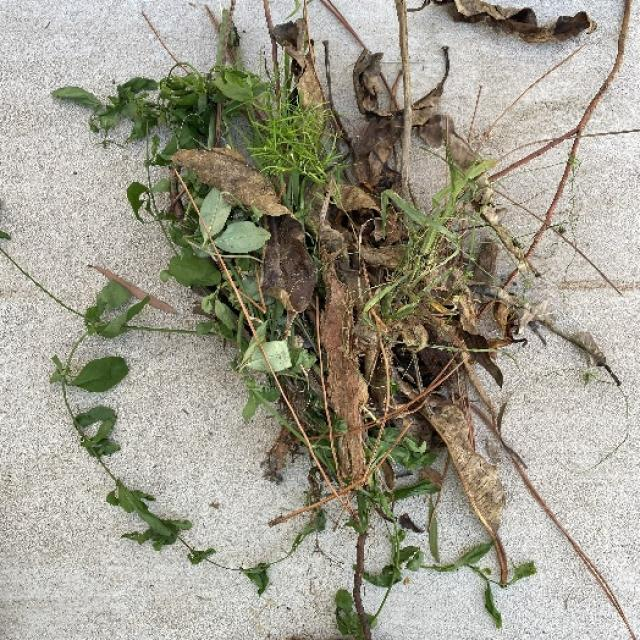organik: (62, 16, 581, 640)
